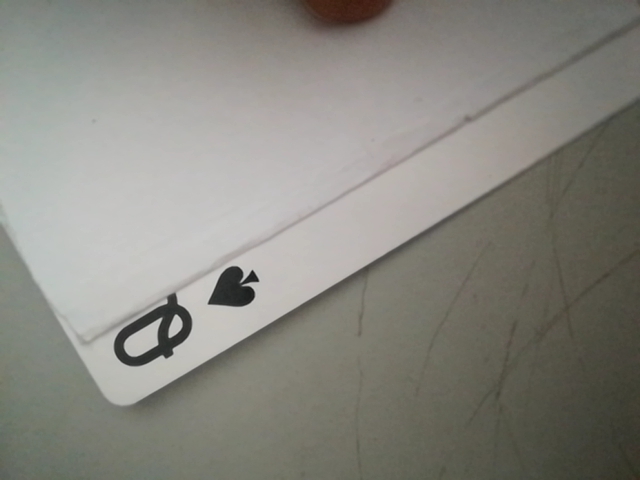ht q: (94, 255, 280, 389)
